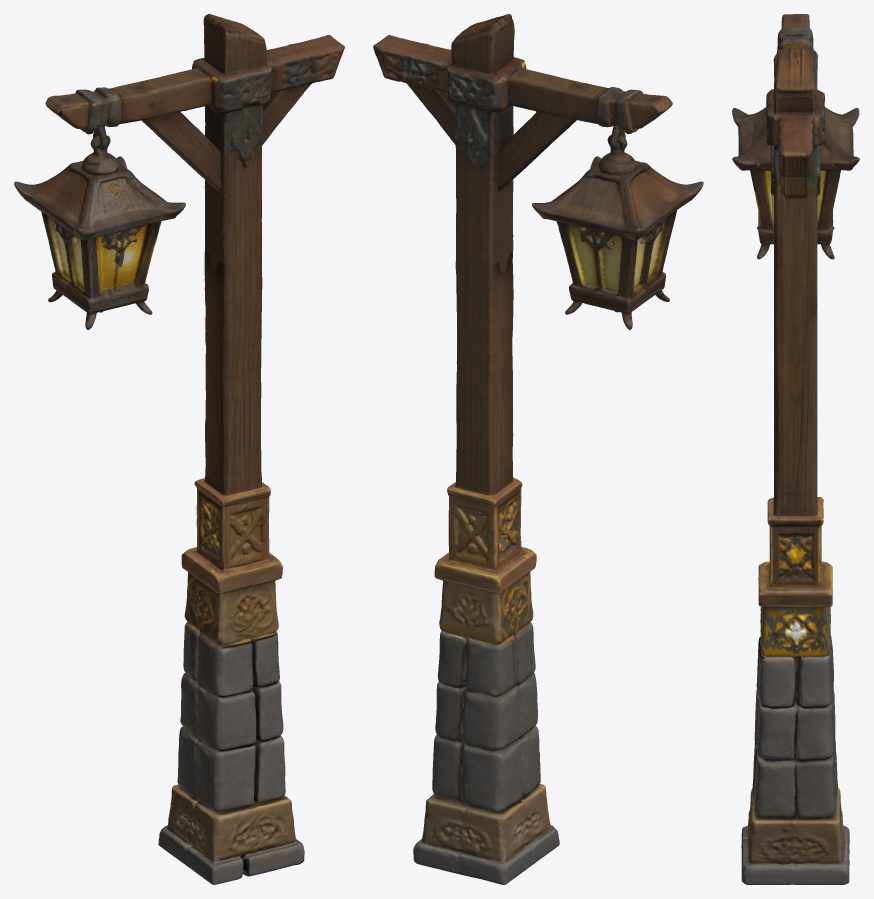
File: Latern.glb
3 views of the same model, side by side, from view 1: azimuth 30°, elevation 25°; view 2: azimuth 150°, elevation 25°; view 3: azimuth 270°, elevation 25° (orthographic). The views are drawn at different scales.
Visible parts, largest first — view 1: Mesh_0.001; view 2: Mesh_0.001; view 3: Mesh_0.001.
Boxes of the visible parts, x1,y1,x2,y2 form: Mesh_0.001: [14, 14, 344, 884]; Mesh_0.001: [373, 14, 703, 884]; Mesh_0.001: [732, 14, 859, 884].
Size of the model in its own units: 1.1 by 3 by 0.4305.
1 material, 1 textured.
